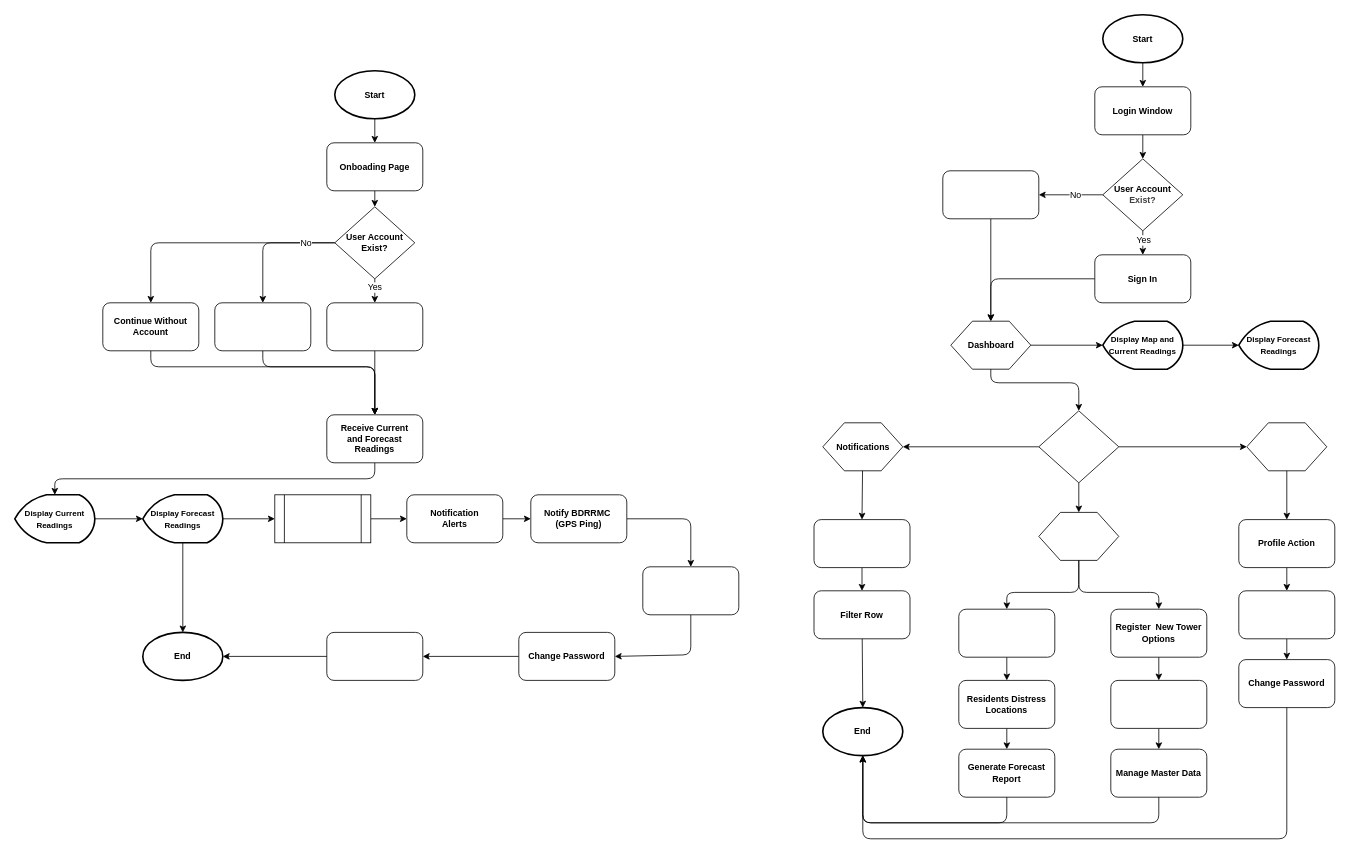
Image size: 1349x859. Some labels were removed from this diagram. Here are the shapes that lost their labels. From the top down, the centre of each, then its label:
At pixel 990 194: "Register".
At pixel 262 326: "Register Option (Fill Out Information)".
At pixel 374 326: "Sign-In".
At pixel 1078 446: "Side Navigation Options".
At pixel 1286 446: "Profile".
At pixel 322 518: "With Account".
At pixel 1078 536: "Operations".
At pixel 861 543: "Tower Selection (Default to All)".
At pixel 690 590: "Profile Option".
At pixel 1006 632: "Log View".
At pixel 1286 614: "About Us".
At pixel 374 656: "Support".
At pixel 1158 704: "Edit Tower Option".
